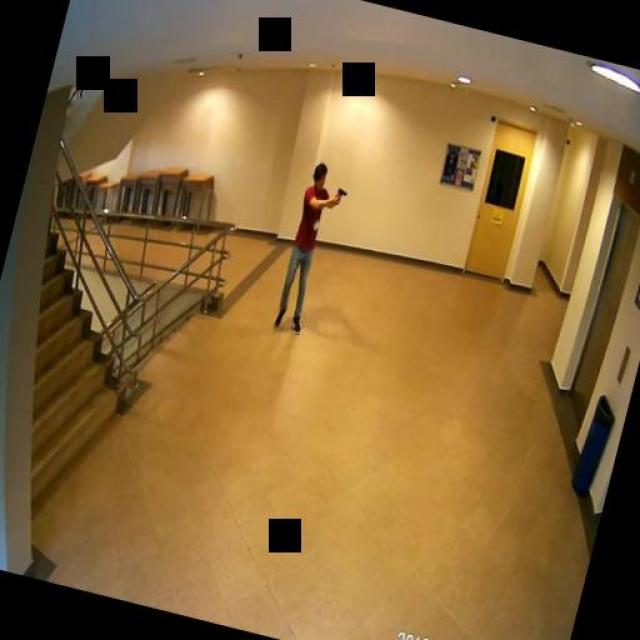gun: (333, 184, 348, 204)
